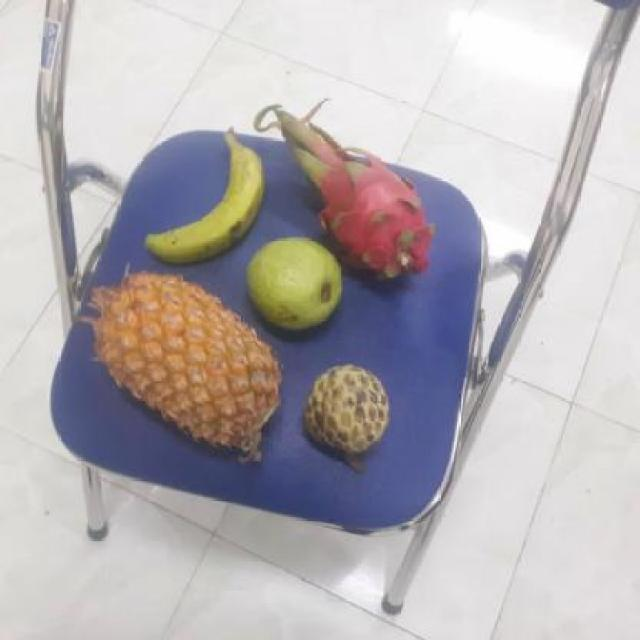banana: (140, 138, 265, 264)
dragon fruit: (280, 132, 428, 280)
guava: (242, 238, 342, 336)
pineapple: (83, 272, 280, 456)
sugar apple: (295, 364, 388, 456)
